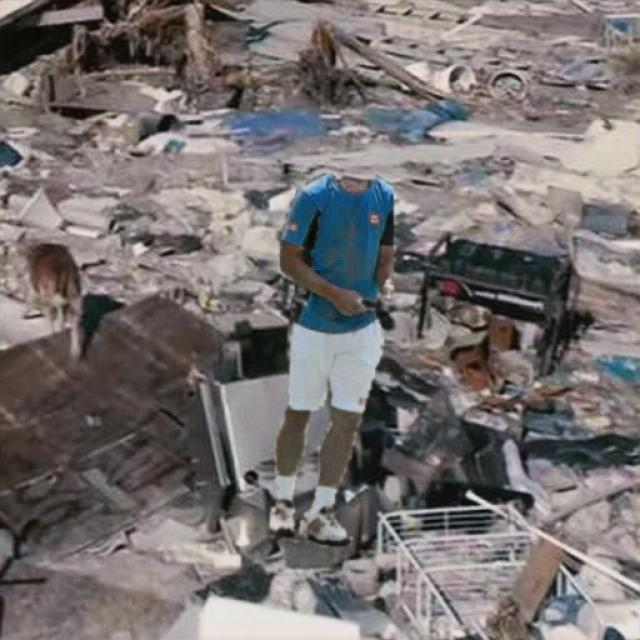Person in Rubble: (270, 174, 392, 545)
